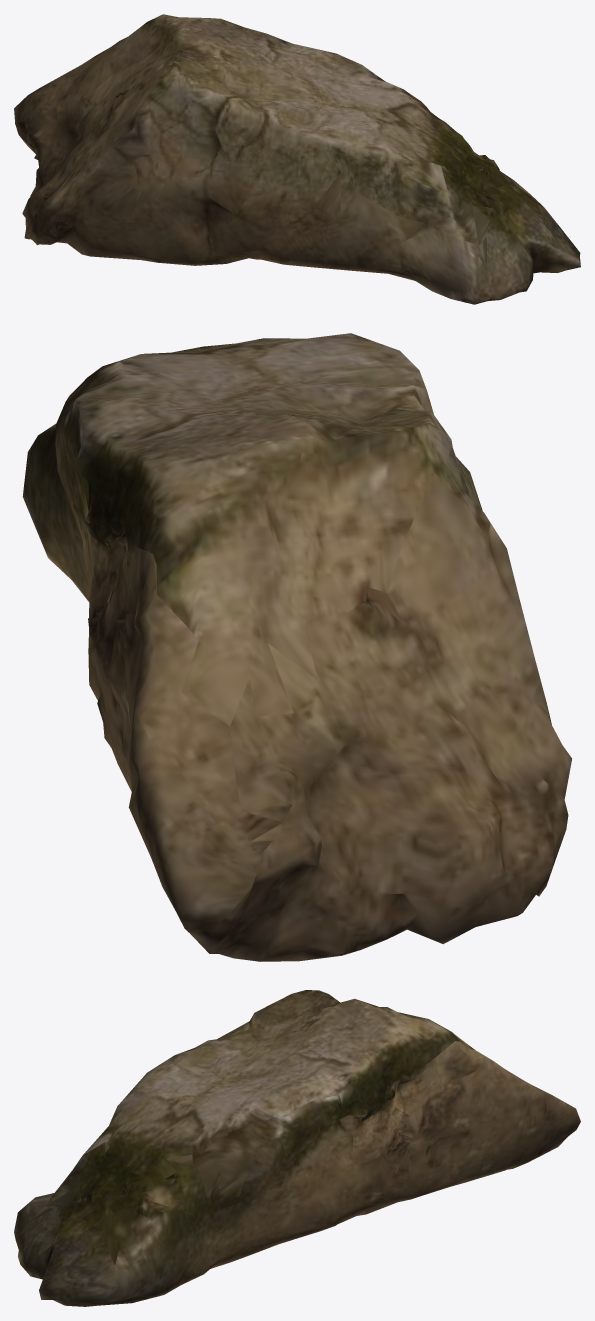
File: SM_RockMoss_A02.gltf
The picture shows the model from 3 angles, top to bottom: view 1: azimuth 30°, elevation 25°; view 2: azimuth 150°, elevation 25°; view 3: azimuth 270°, elevation 25°; orthographic projection. The views are drawn at different scales.
Visible parts, largest first — view 1: SM_RockMoss_A02; view 2: SM_RockMoss_A02; view 3: SM_RockMoss_A02.
Boxes of the visible parts, x1,y1,x2,y2 form: SM_RockMoss_A02: (14,14,580,304); SM_RockMoss_A02: (22,333,571,961); SM_RockMoss_A02: (14,990,580,1306).
Bounding box in the file's own units: 2.65 × 1.26 × 3.27.
Materials: 1 (1 with a texture image).
